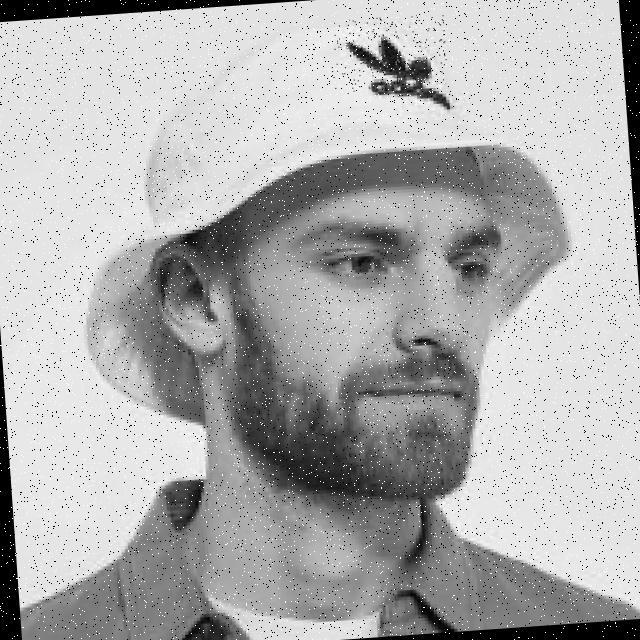Adidas: (328, 13, 448, 95)
